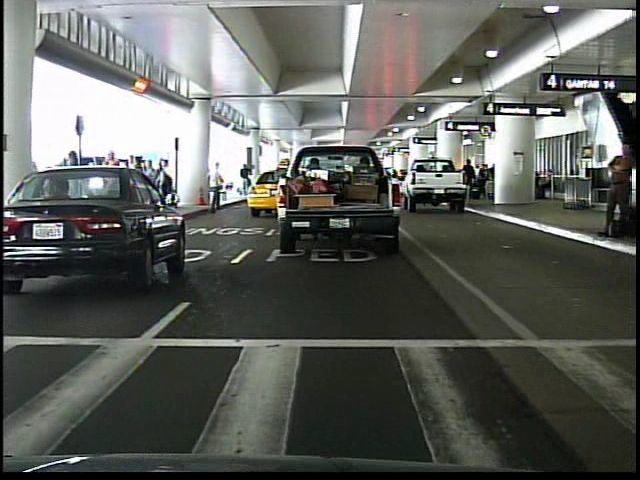person: (602, 139, 638, 248), (98, 149, 126, 225), (205, 157, 228, 214), (238, 162, 257, 196)
